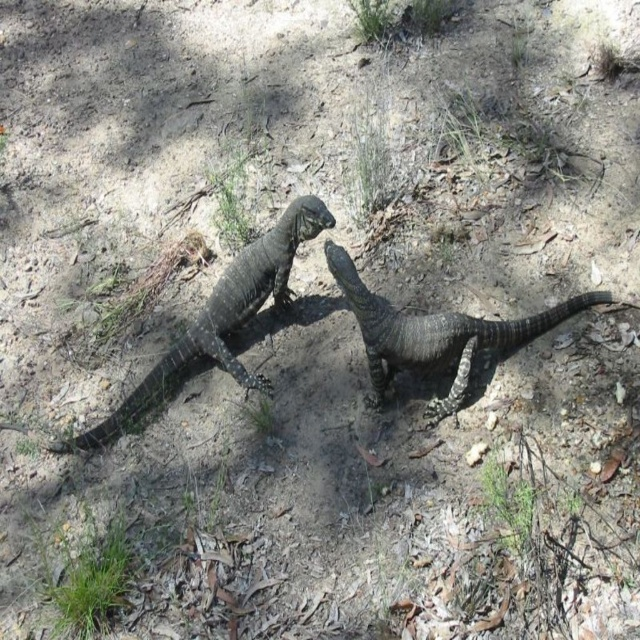Lizard: (0, 195, 337, 454), (325, 240, 640, 430)
